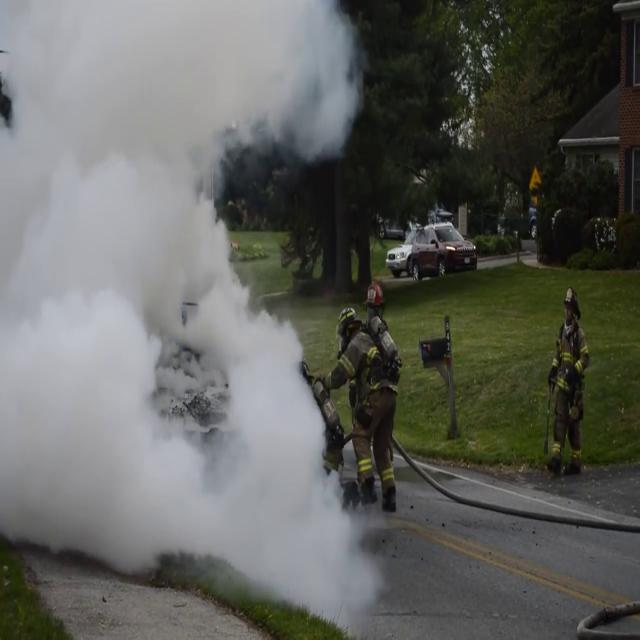Smoke: (0, 0, 376, 615)
